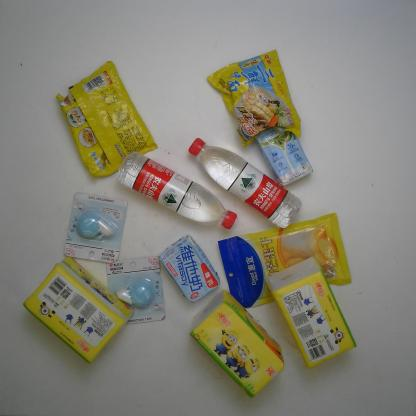Dried Fruit: (217, 210, 353, 308)
Drink: (187, 137, 302, 229), (116, 151, 237, 231)
Instant Noodles: (54, 59, 166, 179), (207, 50, 303, 146)
Milk: (156, 233, 220, 304), (255, 126, 315, 187)
Stationery: (64, 192, 128, 262), (106, 255, 167, 327)
Tissue: (22, 256, 135, 364), (263, 254, 358, 370), (186, 291, 286, 398)
